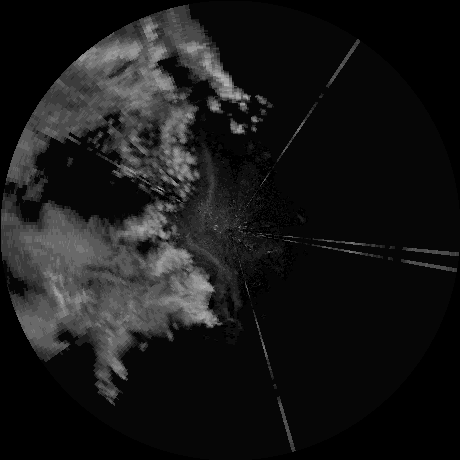frontgust: (184, 224, 243, 322), (194, 129, 216, 237)
